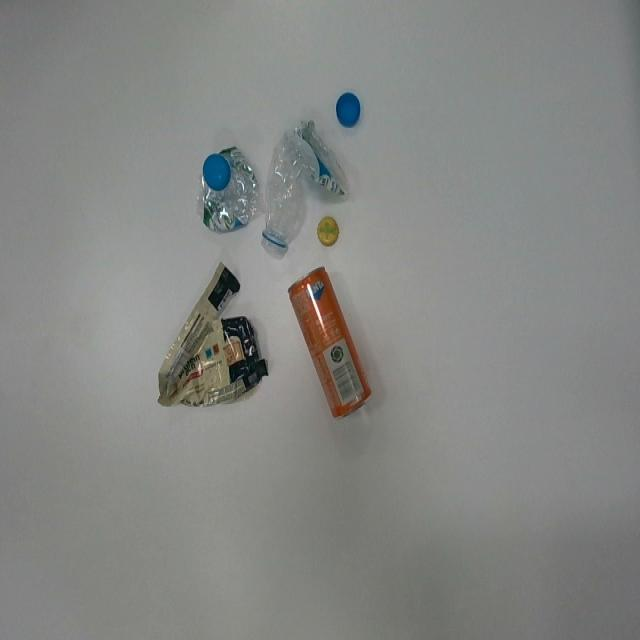metal: (275, 258, 384, 422), (313, 204, 345, 251)
plastic: (153, 250, 273, 422), (260, 113, 355, 267), (195, 138, 267, 238), (333, 85, 366, 131)
